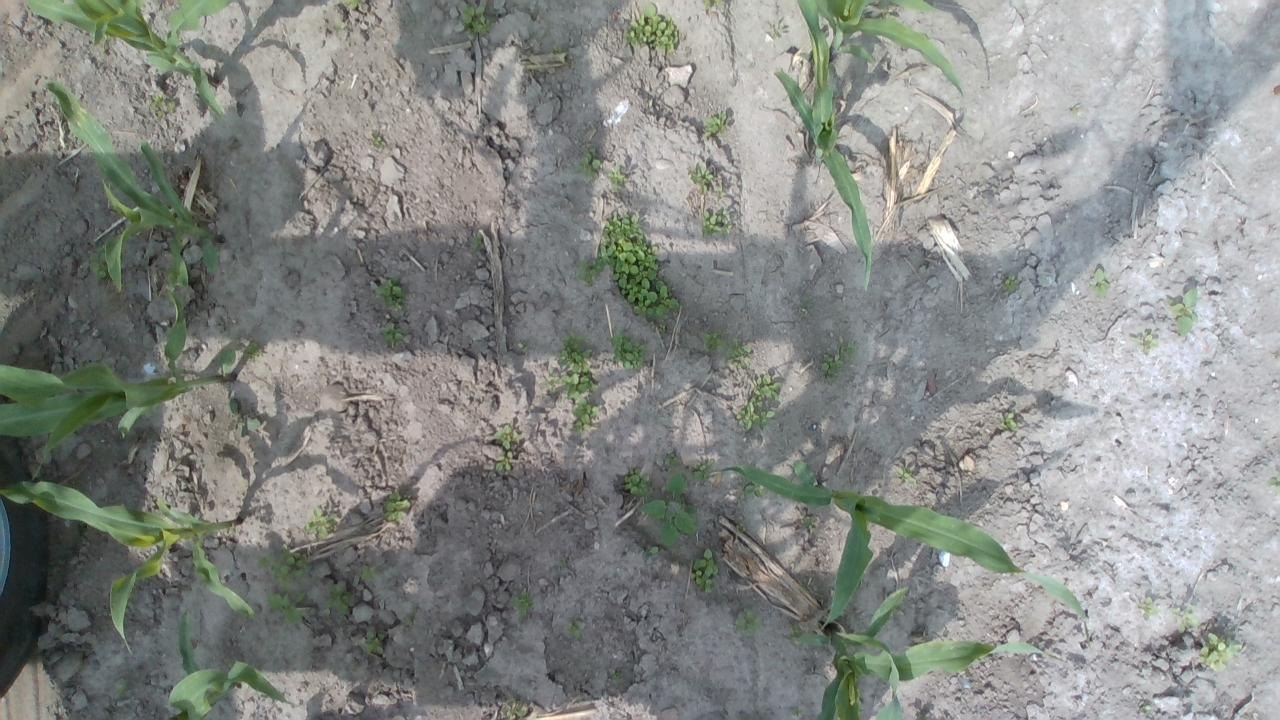Maize: (706, 458, 1092, 646), (0, 286, 235, 487), (0, 481, 256, 656), (44, 78, 224, 290), (792, 585, 1066, 720), (774, 0, 876, 293), (23, 0, 235, 121), (815, 0, 967, 100), (160, 612, 294, 720), (837, 630, 904, 720)
Weeds: (596, 211, 680, 332), (642, 472, 699, 548), (624, 2, 682, 54), (256, 543, 314, 592), (557, 332, 599, 399), (735, 374, 782, 430), (1198, 632, 1242, 673), (819, 336, 857, 381), (607, 329, 647, 370), (267, 590, 309, 628), (1167, 290, 1200, 338), (690, 549, 720, 596), (227, 398, 261, 438), (458, 1, 495, 36), (687, 165, 723, 199), (570, 394, 599, 436), (622, 465, 653, 501), (731, 606, 763, 638), (304, 508, 336, 540), (376, 276, 406, 310), (700, 208, 733, 238), (322, 582, 352, 614), (574, 148, 600, 180), (383, 491, 411, 520), (724, 338, 751, 368), (576, 258, 602, 288), (509, 588, 534, 619), (88, 243, 108, 281), (698, 328, 727, 353), (1173, 606, 1199, 633), (702, 112, 728, 138), (150, 90, 176, 116), (493, 424, 521, 448), (1089, 268, 1110, 298), (380, 323, 406, 347), (606, 165, 628, 192), (736, 480, 765, 500), (363, 631, 386, 656), (1134, 332, 1158, 355), (1137, 597, 1160, 620), (692, 459, 714, 482), (540, 368, 560, 393), (786, 624, 806, 647), (501, 702, 526, 720), (243, 342, 263, 362), (565, 618, 584, 638), (1002, 274, 1022, 293), (998, 413, 1018, 431), (115, 676, 132, 697), (896, 467, 916, 484), (496, 451, 513, 471), (360, 564, 380, 581), (404, 608, 420, 628), (100, 34, 116, 54), (800, 515, 819, 531), (664, 452, 680, 471), (471, 231, 485, 252), (607, 668, 624, 684), (369, 132, 386, 147), (1269, 475, 1280, 494), (344, 0, 364, 9), (704, 0, 724, 8), (645, 546, 659, 556), (1141, 704, 1152, 716), (734, 523, 748, 532), (802, 296, 812, 308), (557, 556, 567, 567), (772, 28, 783, 38), (552, 43, 562, 52)
